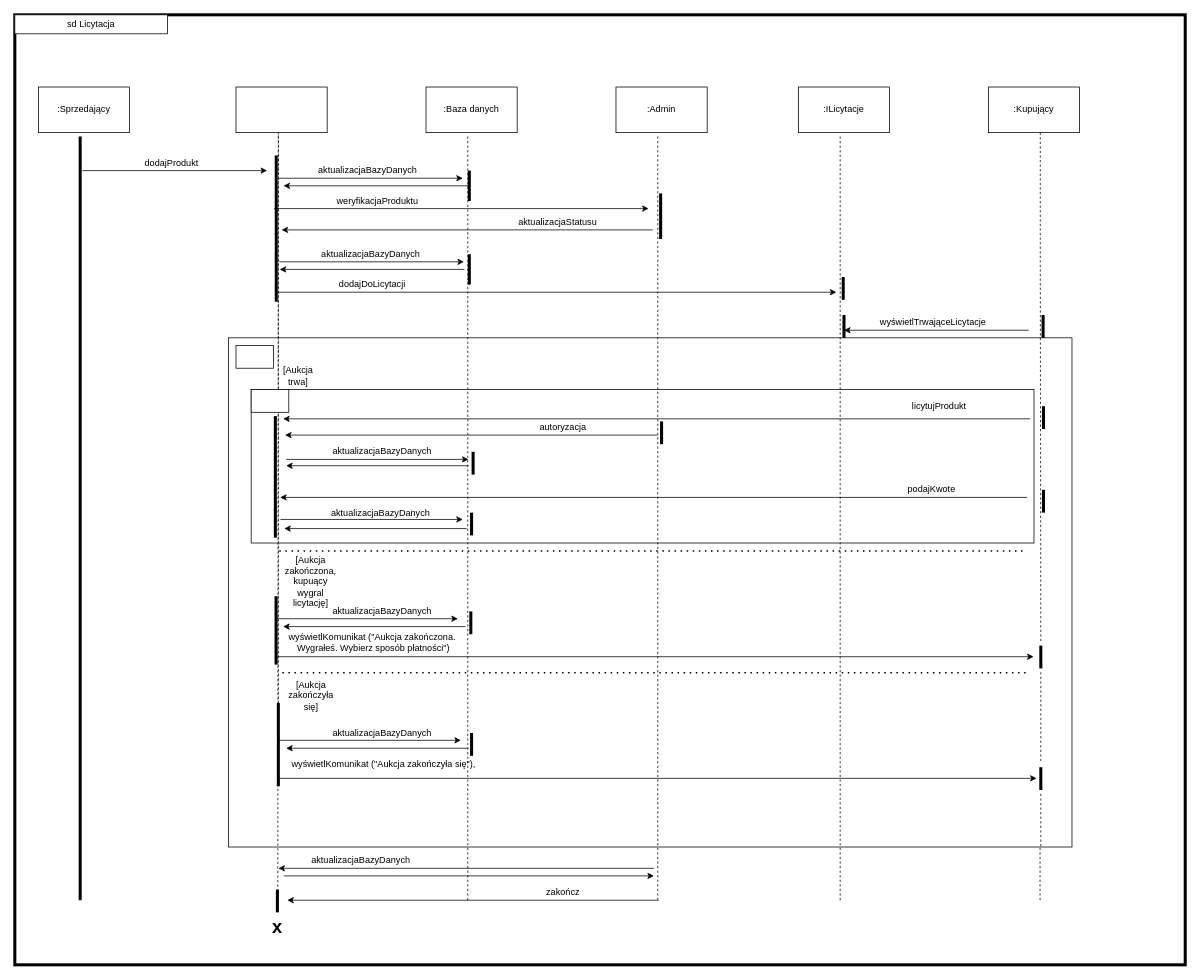
Some shapes in this 1199 by 979 pixel diagram are drawn without their labels. The shapes that lost their labels are listed below. From the top down, each one's centre as x and y in pixels, then its label:
pixel 281 109: :Produkt
pixel 254 356: Alt
pixel 269 400: Loop
